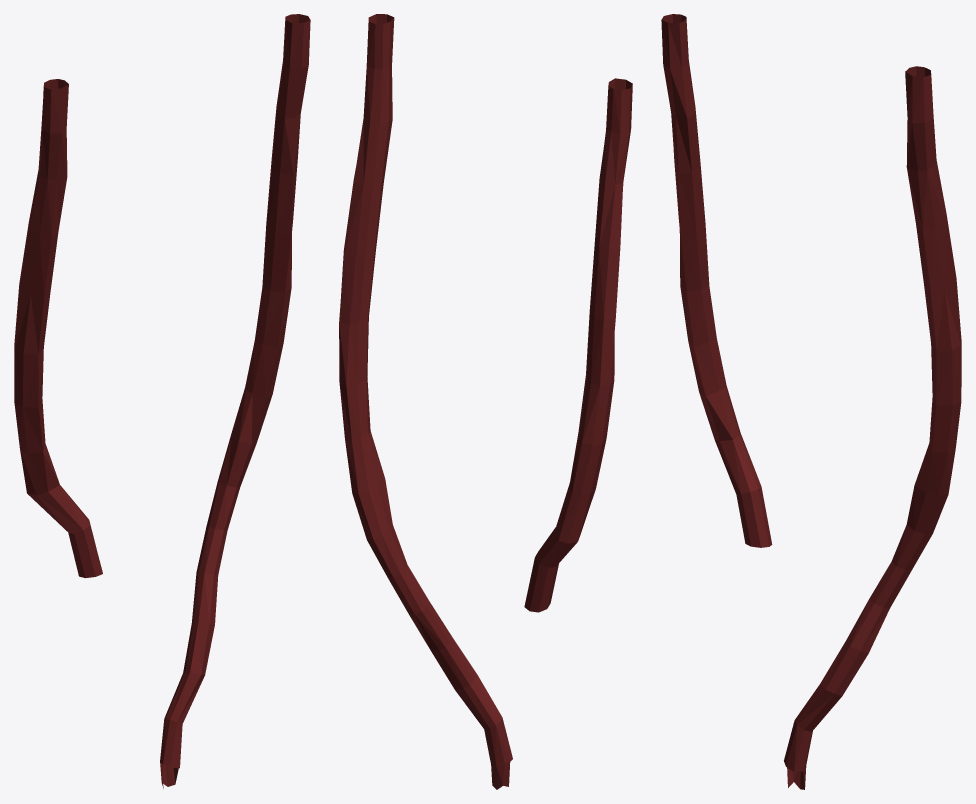
The model's file is Artéria Carótida Común.FBX.
3 renders of one model, left to right at view 1: azimuth 30°, elevation 25°; view 2: azimuth 150°, elevation 25°; view 3: azimuth 330°, elevation 25°, orthographic. The views are drawn at different scales.
Visible parts, largest first — view 1: CS_Arterie; view 2: CS_Arterie; view 3: CS_Arterie.
Part boxes in pixels (<box>): CS_Arterie: <box>14,14,310,788</box>; CS_Arterie: <box>339,14,632,789</box>; CS_Arterie: <box>661,14,961,789</box>.
Bounding box in the file's own units: 8.07 × 20.91 × 2.5.
